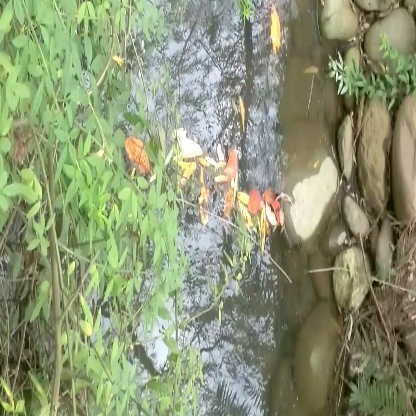leaf: (266, 2, 289, 55), (218, 146, 246, 189)
